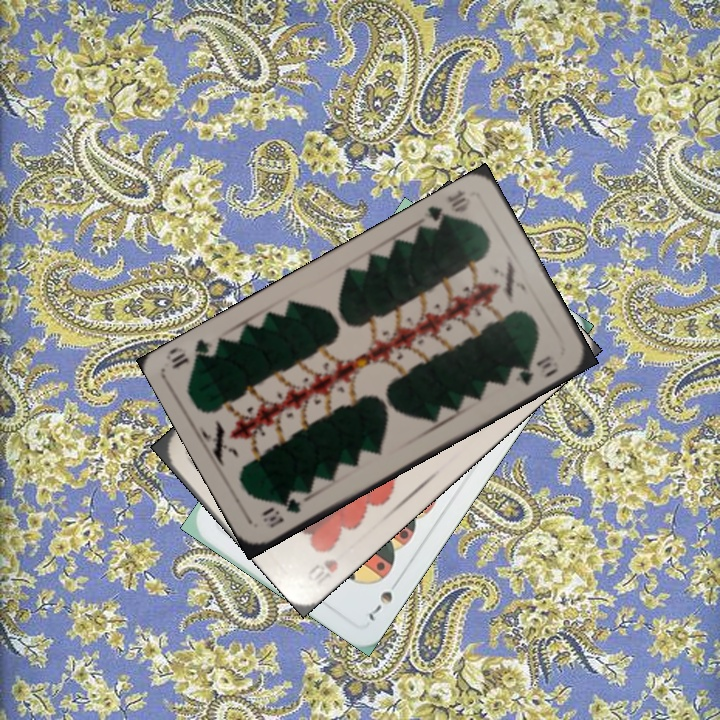G10: (419, 186, 473, 232), (258, 494, 304, 531)
H10: (302, 555, 341, 587)
S7: (362, 574, 403, 624)
